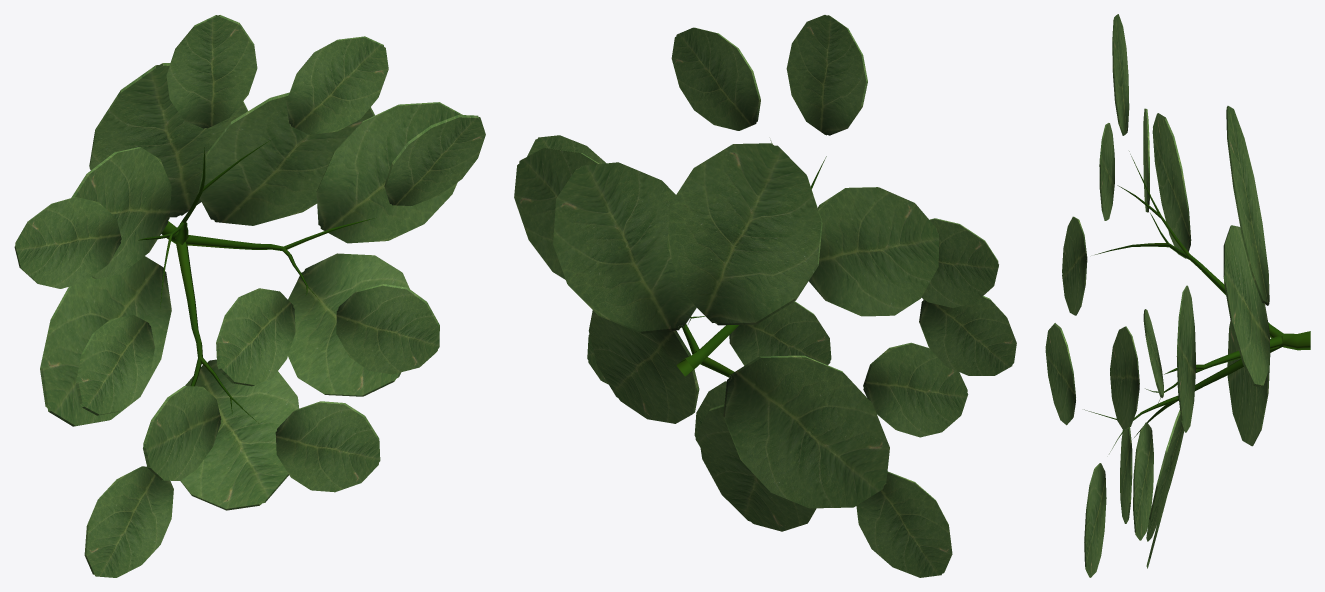
Rendered from plant0.obj.
The picture shows the model from 3 angles, left to right: view 1: azimuth 30°, elevation 25°; view 2: azimuth 150°, elevation 25°; view 3: azimuth 270°, elevation 25°; orthographic projection.
Visible parts, largest first — view 1: leaves.021, tree.021; view 2: leaves.021, tree.021; view 3: leaves.021, tree.021.
Boxes of the visible parts, <box> form: leaves.021: <box>14,15,485,577</box>; tree.021: <box>138,139,375,423</box>; leaves.021: <box>514,15,1016,577</box>; tree.021: <box>676,140,826,377</box>; leaves.021: <box>1045,14,1270,577</box>; tree.021: <box>1084,151,1310,453</box>.
Bounding box in the file's own units: 0.1529 × 0.1671 × 0.0733.
Materials: 2 (2 with a texture image).
